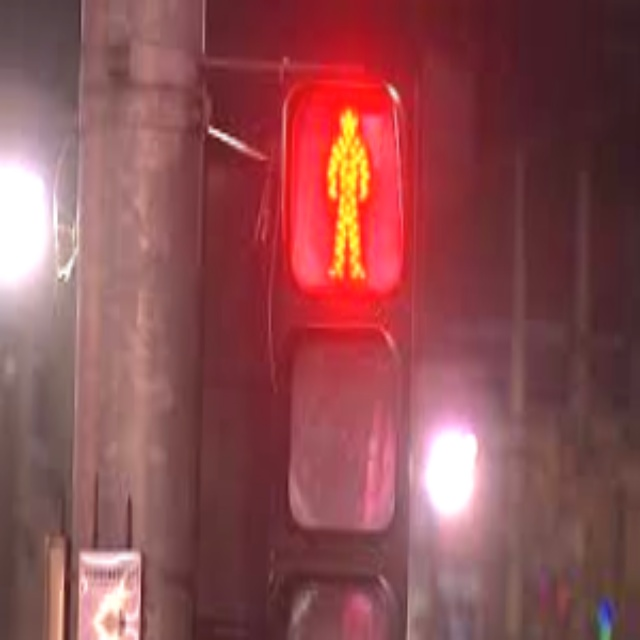red_light: (277, 75, 411, 302)
